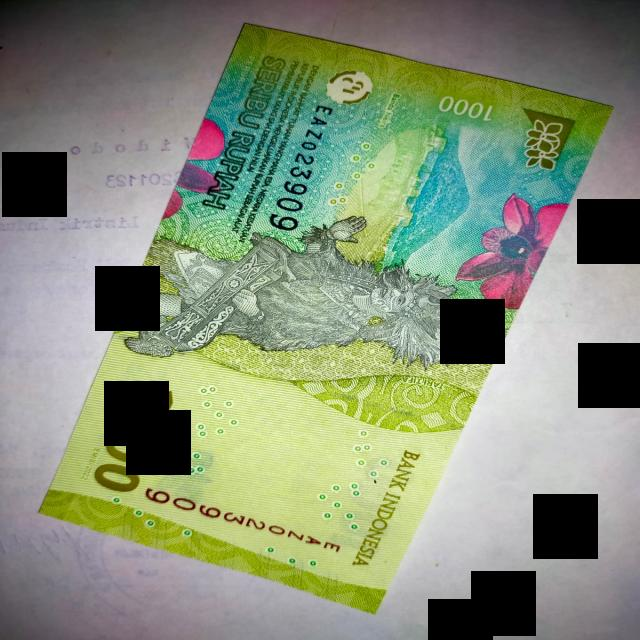seribu rupiah: (42, 25, 612, 612)
